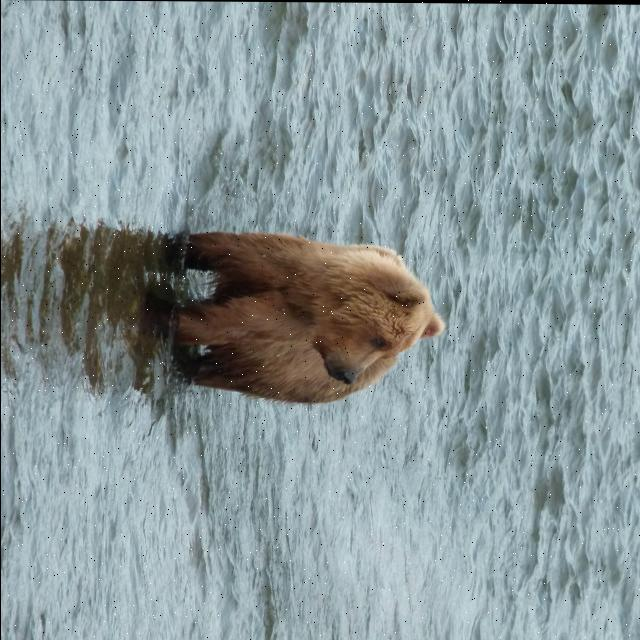bear face: (176, 233, 446, 405)
